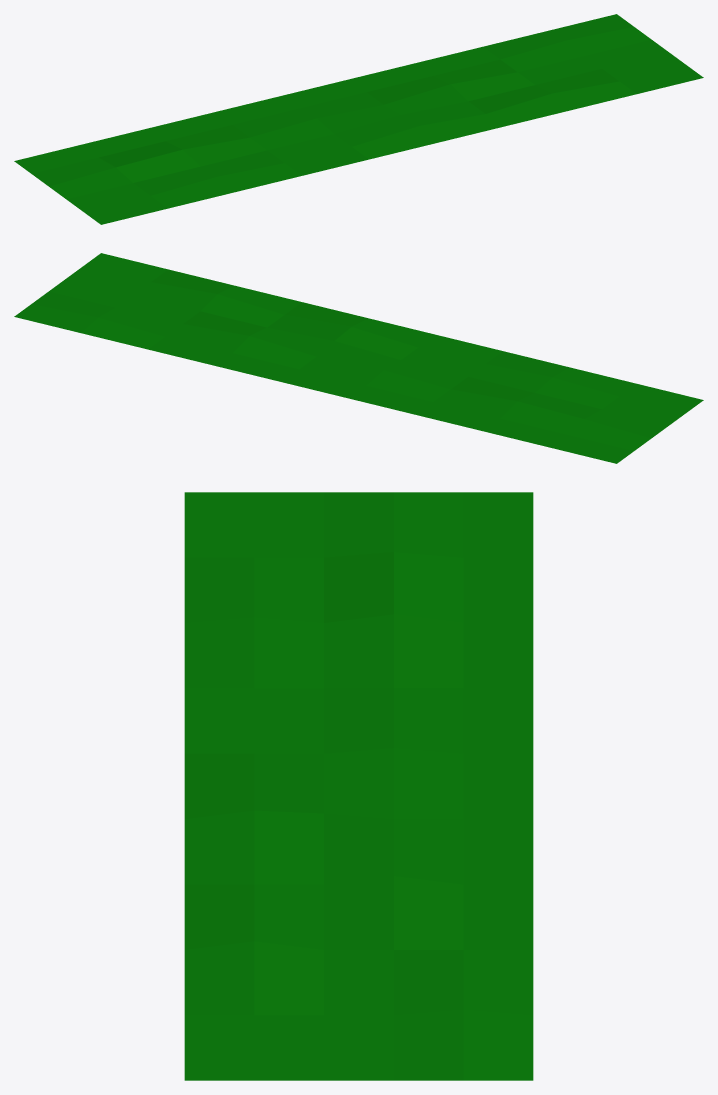
Rendered from GroundScenary02.fbx.
The picture shows the model from 3 angles, top to bottom: view 1: azimuth 30°, elevation 25°; view 2: azimuth 150°, elevation 25°; view 3: azimuth 270°, elevation 25°; orthographic projection. The views are drawn at different scales.
Visible parts, largest first — view 1: GroundScenary02; view 2: GroundScenary02; view 3: GroundScenary02.
Part boxes in pixels (<box>): GroundScenary02: <box>14,14,703,224</box>; GroundScenary02: <box>14,253,703,463</box>; GroundScenary02: <box>184,492,533,1080</box>.
Bounding box in the file's own units: 15.97 × 0.1098 × 4.
